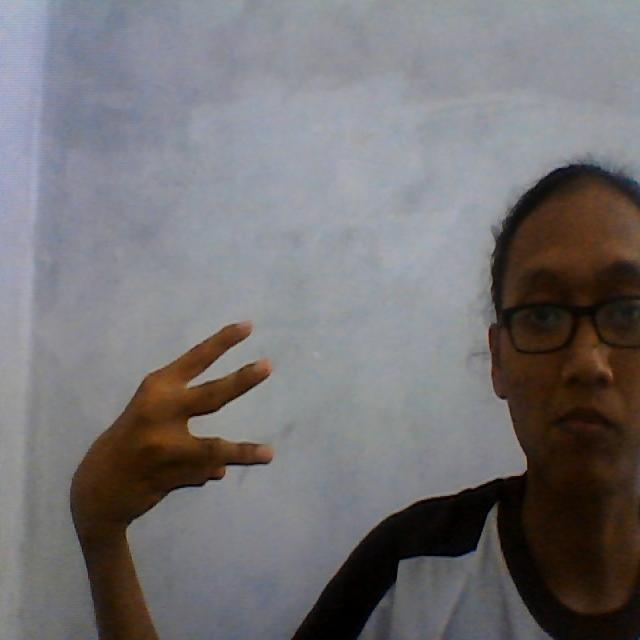E: (53, 312, 284, 542)
